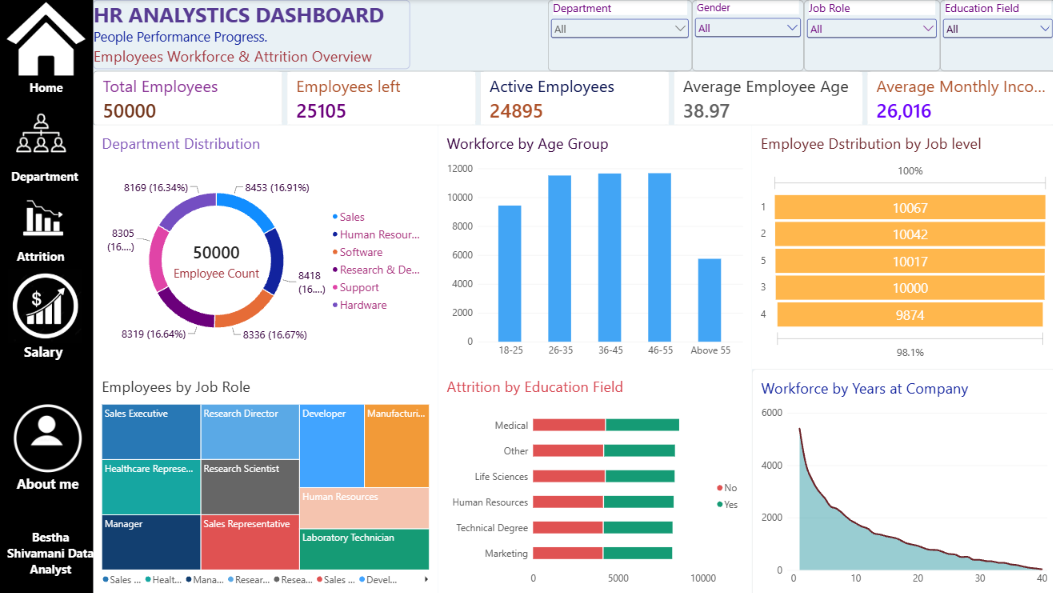

The page's visual inventory and layout, read from the dashboard file:
{"tool":"powerbi","page":{"name":"HR Overview","canvas":[1920,1080],"ordinal":1},"visuals":[{"type":"group","id":"g1","title":"Group 8","box":[0,0,175.7,1080.4],"z":0,"group":"g11"},{"type":"group","id":"g2","title":"Group 6","box":[0,0,175.4,1080.4],"z":0,"group":"g1"},{"type":"group","id":"g3","title":"Group 4","box":[0,0,175.4,1080.4],"z":0,"group":"g2"},{"type":"image","box":[5,0,170.4,143],"z":0,"group":"g5"},{"type":"textbox","box":[5,0,170.4,1080.4],"z":0,"group":"g4"},{"type":"group","id":"g4","title":"Group 2","box":[5,0,170.4,1080.4],"z":0,"group":"g3"},{"type":"textbox","box":[175.5,0,573.7,124.9],"z":0},{"type":"image","box":[0,181,163,119.4],"z":0,"group":"g6"},{"type":"image","box":[4.8,338.3,159.9,112.2],"z":0,"group":"g7"},{"type":"image","box":[11.7,486.8,153.5,133.9],"z":0,"group":"g8"},{"type":"image","box":[14.1,727.6,157.4,132.1],"z":0,"group":"g9"},{"type":"group","id":"g5","title":"Group 1","box":[5,0,170.4,181],"z":1000,"group":"g4"},{"type":"cardVisual","fields":{"Data":["HR_Analytics.Total Employees","HR_Analytics.Employees left","HR_Analytics.Active Employees","HR_Analytics.Average Employee Age","HR_Analytics.Average Monthly Income"]},"box":[175.5,128.5,1744.5,99.5],"z":1000},{"type":"textbox","box":[5,143,170.4,38],"z":1000,"group":"g5"},{"type":"group","id":"g6","title":"Group 3","box":[0,181,165.2,159.3],"z":1000,"group":"g3"},{"type":"textbox","box":[10.5,304.1,154.7,36.2],"z":1000,"group":"g6"},{"type":"group","id":"g7","title":"Group 5","box":[4.8,338.3,159.9,147.9],"z":1000,"group":"g2"},{"type":"textbox","box":[19,448.2,121.3,38],"z":1000,"group":"g7"},{"type":"group","id":"g8","title":"Group 7","box":[5,486.8,160.3,181],"z":1000,"group":"g1"},{"type":"textbox","box":[5,620.7,160.3,47.1],"z":1000,"group":"g8"},{"type":"group","id":"g9","title":"Group 9","box":[14.1,727.6,157.4,208],"z":1000,"group":"g10"},{"type":"group","id":"g10","title":"Group 10","box":[14.1,727.6,168.8,332.8],"z":1000,"group":"g11"},{"type":"textbox","box":[24.1,860.5,136,75.2],"z":1000,"group":"g9"},{"type":"donutChart","title":"Department Distribution","fields":{"Category":["HR_Analytics.Department"],"Y":["Sum(HR_Analytics.EmployeeCount)"]},"box":[175.5,226.2,624.3,439.7],"z":2000},{"type":"textbox","box":[14.6,956.6,168.3,103.8],"z":2000,"group":"g10"},{"type":"clusteredColumnChart","title":"Workforce by  Age Group","fields":{"Category":["HR_Analytics.Age Group"],"Y":["Sum(HR_Analytics.EmployeeCount)"]},"box":[799.9,226.2,568.2,439.7],"z":3000},{"type":"treemap","title":"Employees by Job Role","fields":{"Group":["HR_Analytics.JobRole"],"Values":["Sum(HR_Analytics.EmployeeCount)"]},"box":[175.5,666,624.3,414.4],"z":4000},{"type":"barChart","title":"Attrition by Education Field","fields":{"Category":["HR_Analytics.EducationField"],"Series":["HR_Analytics.Attrition"],"Y":["Sum(HR_Analytics.EmployeeCount)"]},"box":[799.9,666,568.2,412.6],"z":5000},{"type":"funnel","title":"Employee Dstribution by Job level","fields":{"Category":["HR_Analytics.JobLevel"],"Y":["Sum(HR_Analytics.EmployeeCount)"]},"box":[1368.1,226.2,551.9,441.6],"z":6000},{"type":"areaChart","title":"Workforce by Years at Company","fields":{"Category":["HR_Analytics.YearsAtCompany"],"Y":["Sum(HR_Analytics.EmployeeCount)"]},"box":[1368.1,667.8,551.9,412.6],"z":7000},{"type":"slicer","fields":{"Values":["HR_Analytics.Department"]},"box":[998.9,0,260.6,128.5],"z":8000},{"type":"slicer","fields":{"Values":["HR_Analytics.Gender"]},"box":[1259.5,0,202.7,128.5],"z":9000},{"type":"slicer","fields":{"Values":["HR_Analytics.JobRole"]},"box":[1462.2,0,246.1,128.5],"z":10000},{"type":"slicer","fields":{"Values":["HR_Analytics.EducationField"]},"box":[1708.3,0,211.7,128.5],"z":11000},{"type":"group","id":"g11","title":"Group 11","box":[0,0,183,1080.4],"z":12000}]}

Visuals, with their boxes on the page's 1920x1080 design canvas (x1, y1, x2, y2). These are canvas units, not pixel positions in the 1053x593 screenshot, which may show the page scaled, cropped or inside an application window:
"Group 8" group: left=0, top=0, right=176, bottom=1080
"Group 6" group: left=0, top=0, right=175, bottom=1080
"Group 4" group: left=0, top=0, right=175, bottom=1080
image: left=5, top=0, right=175, bottom=143
textbox: left=5, top=0, right=175, bottom=1080
"Group 2" group: left=5, top=0, right=175, bottom=1080
textbox: left=176, top=0, right=749, bottom=125
image: left=0, top=181, right=163, bottom=300
image: left=5, top=338, right=165, bottom=450
image: left=12, top=487, right=165, bottom=621
image: left=14, top=728, right=172, bottom=860
"Group 1" group: left=5, top=0, right=175, bottom=181
cardVisual - HR_Analytics.Total Employees x HR_Analytics.Employees left: left=176, top=128, right=1920, bottom=228
textbox: left=5, top=143, right=175, bottom=181
"Group 3" group: left=0, top=181, right=165, bottom=340
textbox: left=10, top=304, right=165, bottom=340
"Group 5" group: left=5, top=338, right=165, bottom=486
textbox: left=19, top=448, right=140, bottom=486
"Group 7" group: left=5, top=487, right=165, bottom=668
textbox: left=5, top=621, right=165, bottom=668
"Group 9" group: left=14, top=728, right=172, bottom=936
"Group 10" group: left=14, top=728, right=183, bottom=1060
textbox: left=24, top=860, right=160, bottom=936
"Department Distribution" donutChart: left=176, top=226, right=800, bottom=666
textbox: left=15, top=957, right=183, bottom=1060
"Workforce by  Age Group" clusteredColumnChart: left=800, top=226, right=1368, bottom=666
"Employees by Job Role" treemap: left=176, top=666, right=800, bottom=1080
"Attrition by Education Field" barChart: left=800, top=666, right=1368, bottom=1079
"Employee Dstribution by Job level" funnel: left=1368, top=226, right=1920, bottom=668
"Workforce by Years at Company" areaChart: left=1368, top=668, right=1920, bottom=1080
slicer - HR_Analytics.Department: left=999, top=0, right=1260, bottom=128
slicer - HR_Analytics.Gender: left=1260, top=0, right=1462, bottom=128
slicer - HR_Analytics.JobRole: left=1462, top=0, right=1708, bottom=128
slicer - HR_Analytics.EducationField: left=1708, top=0, right=1920, bottom=128
"Group 11" group: left=0, top=0, right=183, bottom=1080
